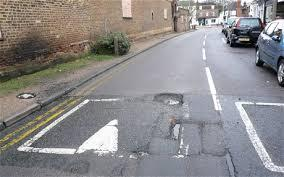Pothole: (155, 91, 185, 108), (223, 145, 238, 177), (167, 121, 185, 146), (127, 147, 149, 164), (15, 87, 39, 102)
